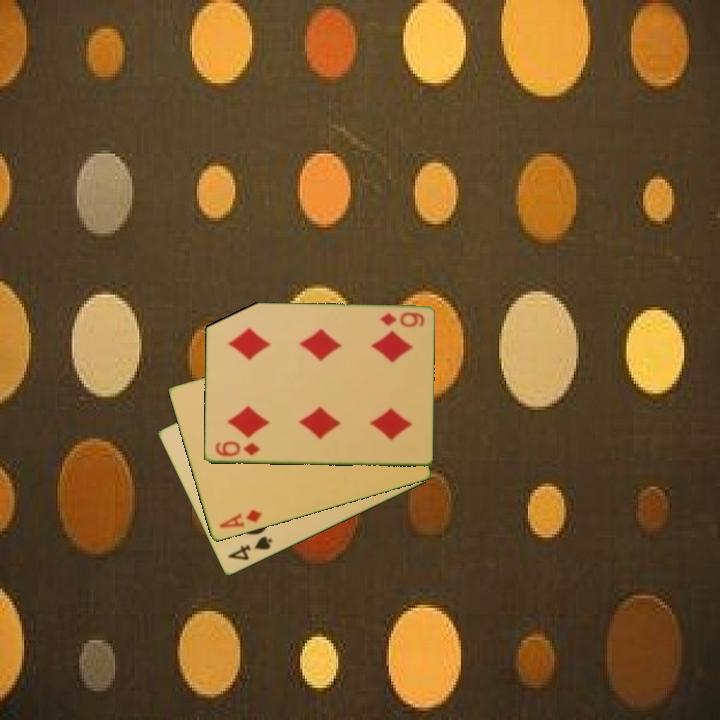4s: (224, 533, 275, 564)
6d: (212, 438, 262, 460), (376, 309, 427, 330)
Ad: (215, 506, 265, 531)
